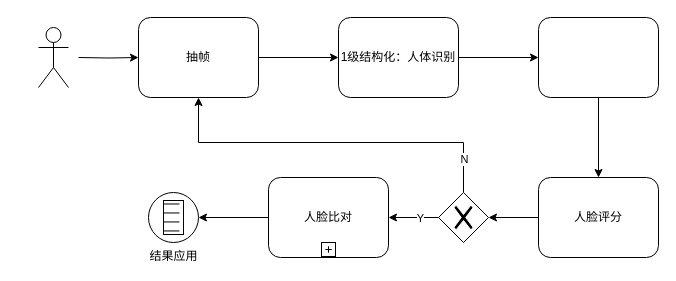
Some shapes in this 676 by 281 pixel diagram are drawn without their labels. Here are the shapes that lost their labels. From the top down, the centre of each, then its label:
At point 53,57: "人员进入现场".
At point 598,57: "提取人脸".
At point 463,217: "高于85分？".
